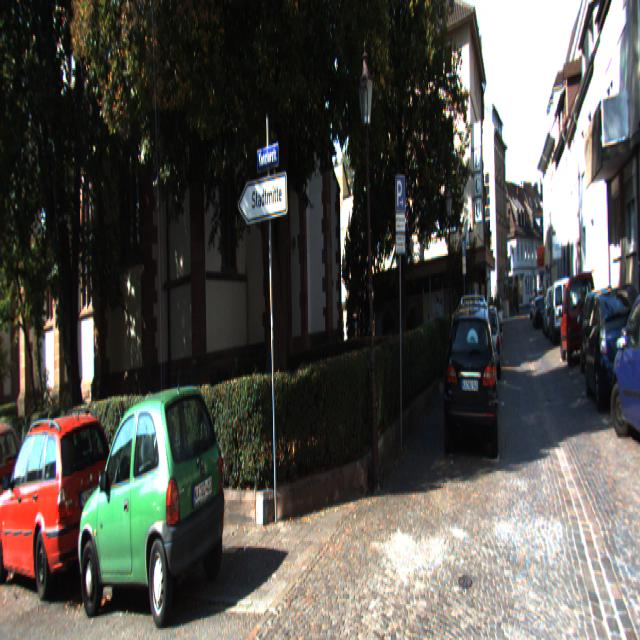Car: (70, 371, 231, 638), (0, 394, 123, 610), (443, 299, 501, 460), (583, 280, 639, 409), (608, 272, 640, 453), (0, 408, 33, 566), (560, 267, 596, 363)
